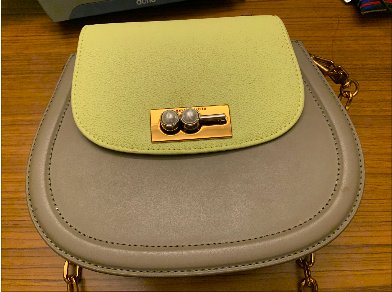object_name: (44, 15, 345, 228)
